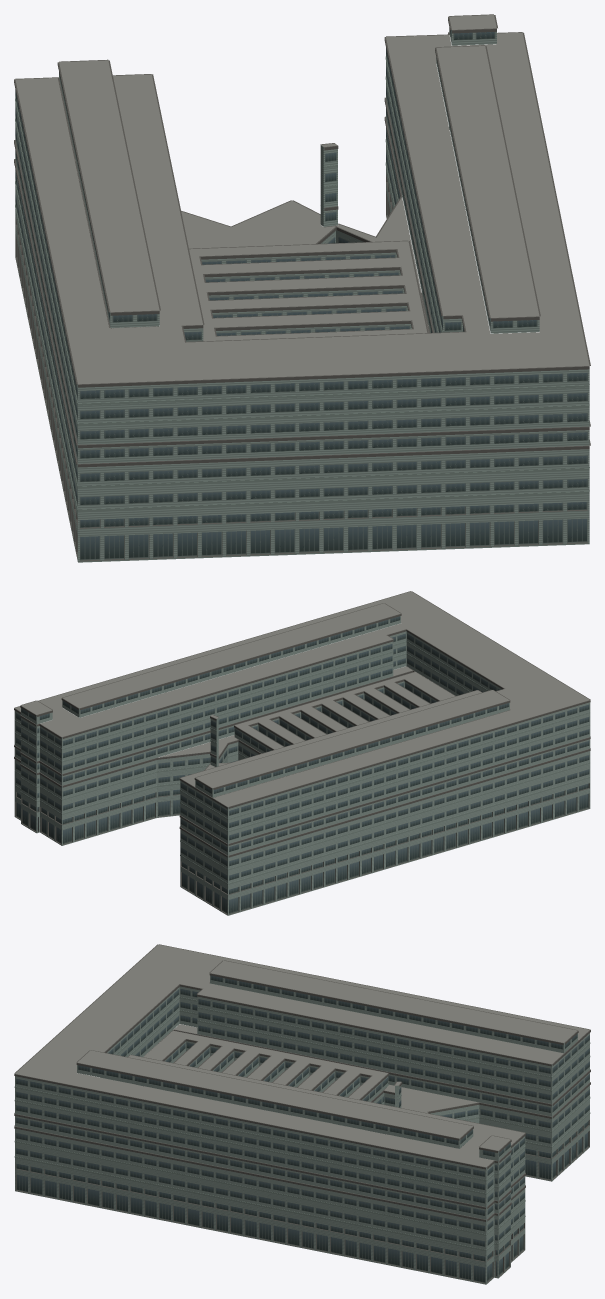
The model's file is puls5.glb.
3 views of the same model, one above another, from view 1: azimuth 30°, elevation 25°; view 2: azimuth 150°, elevation 25°; view 3: azimuth 270°, elevation 25° (orthographic). The views are drawn at different scales.
Parts seen in each view (by area): view 1: puls5; view 2: puls5; view 3: puls5.
Boxes of the visible parts, left/top/right/bottom form: puls5: left=14, top=14, right=590, bottom=562; puls5: left=14, top=591, right=590, bottom=915; puls5: left=14, top=944, right=590, bottom=1284.
Bounding box in the file's own units: 127 × 33.8 × 138.
Materials: 3 (3 with a texture image).
